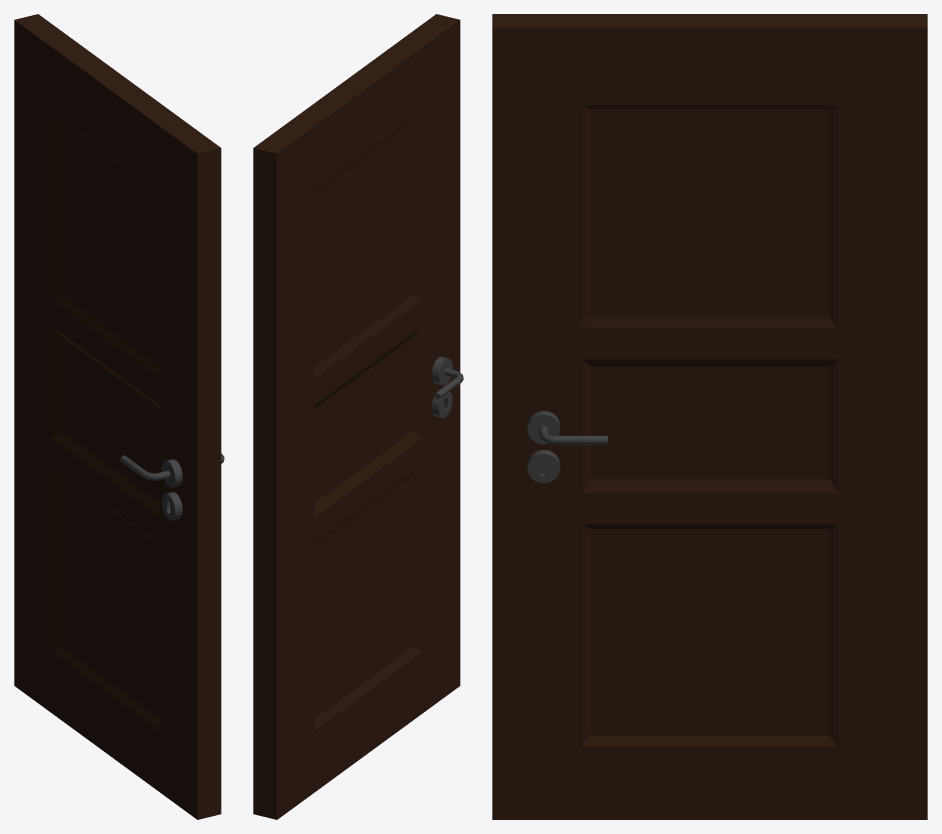
File: T_PorteBois.fbx
3 views of the same model, side by side, from view 1: azimuth 30°, elevation 25°; view 2: azimuth 150°, elevation 25°; view 3: azimuth 270°, elevation 25° (orthographic). The views are drawn at different scales.
Visible parts, largest first — view 1: T_PorteBois; view 2: T_PorteBois; view 3: T_PorteBois.
Boxes of the visible parts, x1,y1,x2,y2 form: T_PorteBois: (14, 14, 224, 819); T_PorteBois: (253, 14, 463, 819); T_PorteBois: (492, 14, 927, 819).
Bounding box in the file's own units: 27.21 × 214 × 107.
